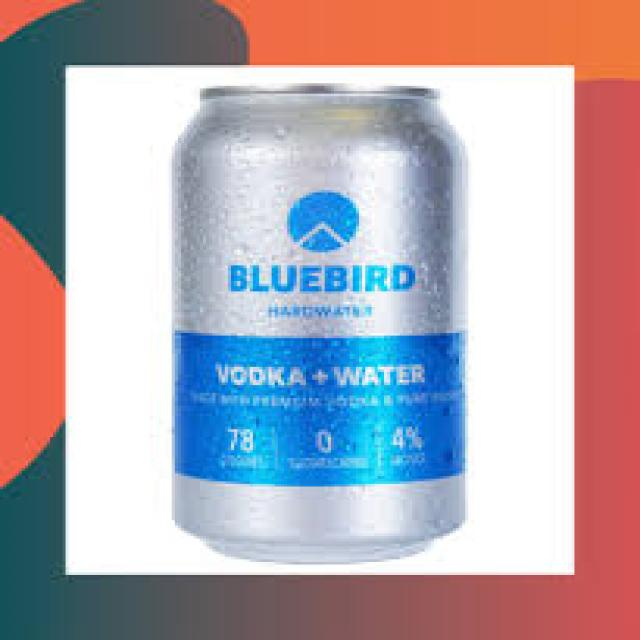Cans: (162, 78, 484, 567)
